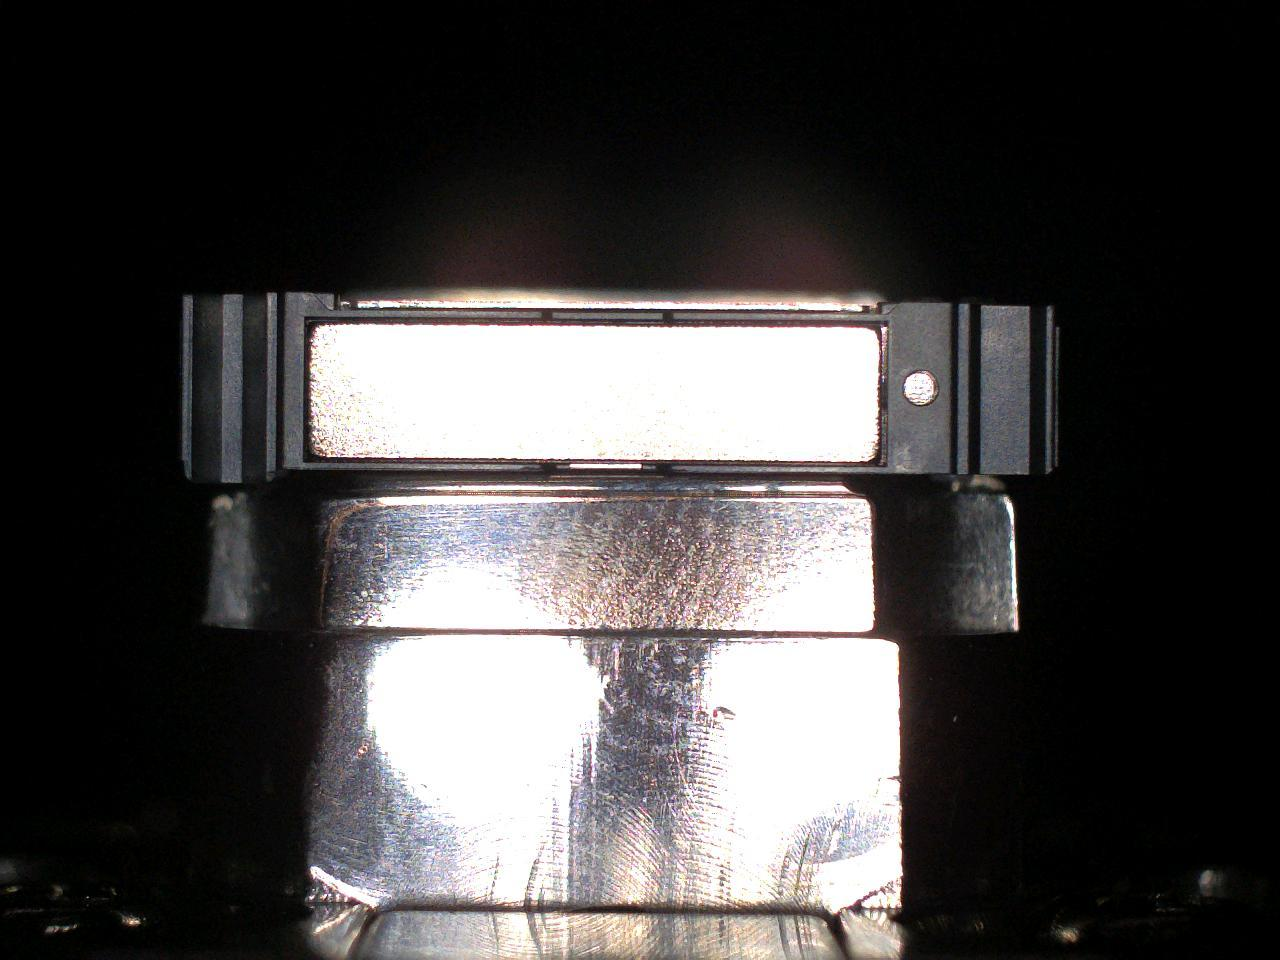frame: (182, 293, 1059, 483)
gap: (310, 317, 541, 325), (675, 320, 881, 327), (310, 458, 542, 464), (670, 461, 881, 467), (553, 320, 664, 327), (556, 459, 657, 464)
magnetic: (309, 325, 880, 463)
